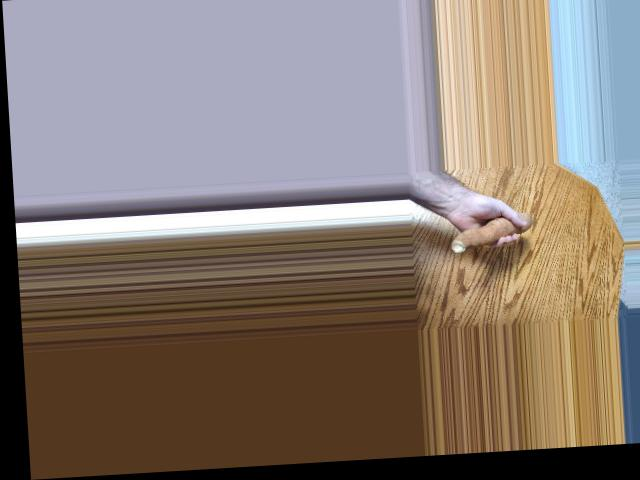sweet_potato: (444, 213, 537, 252)
